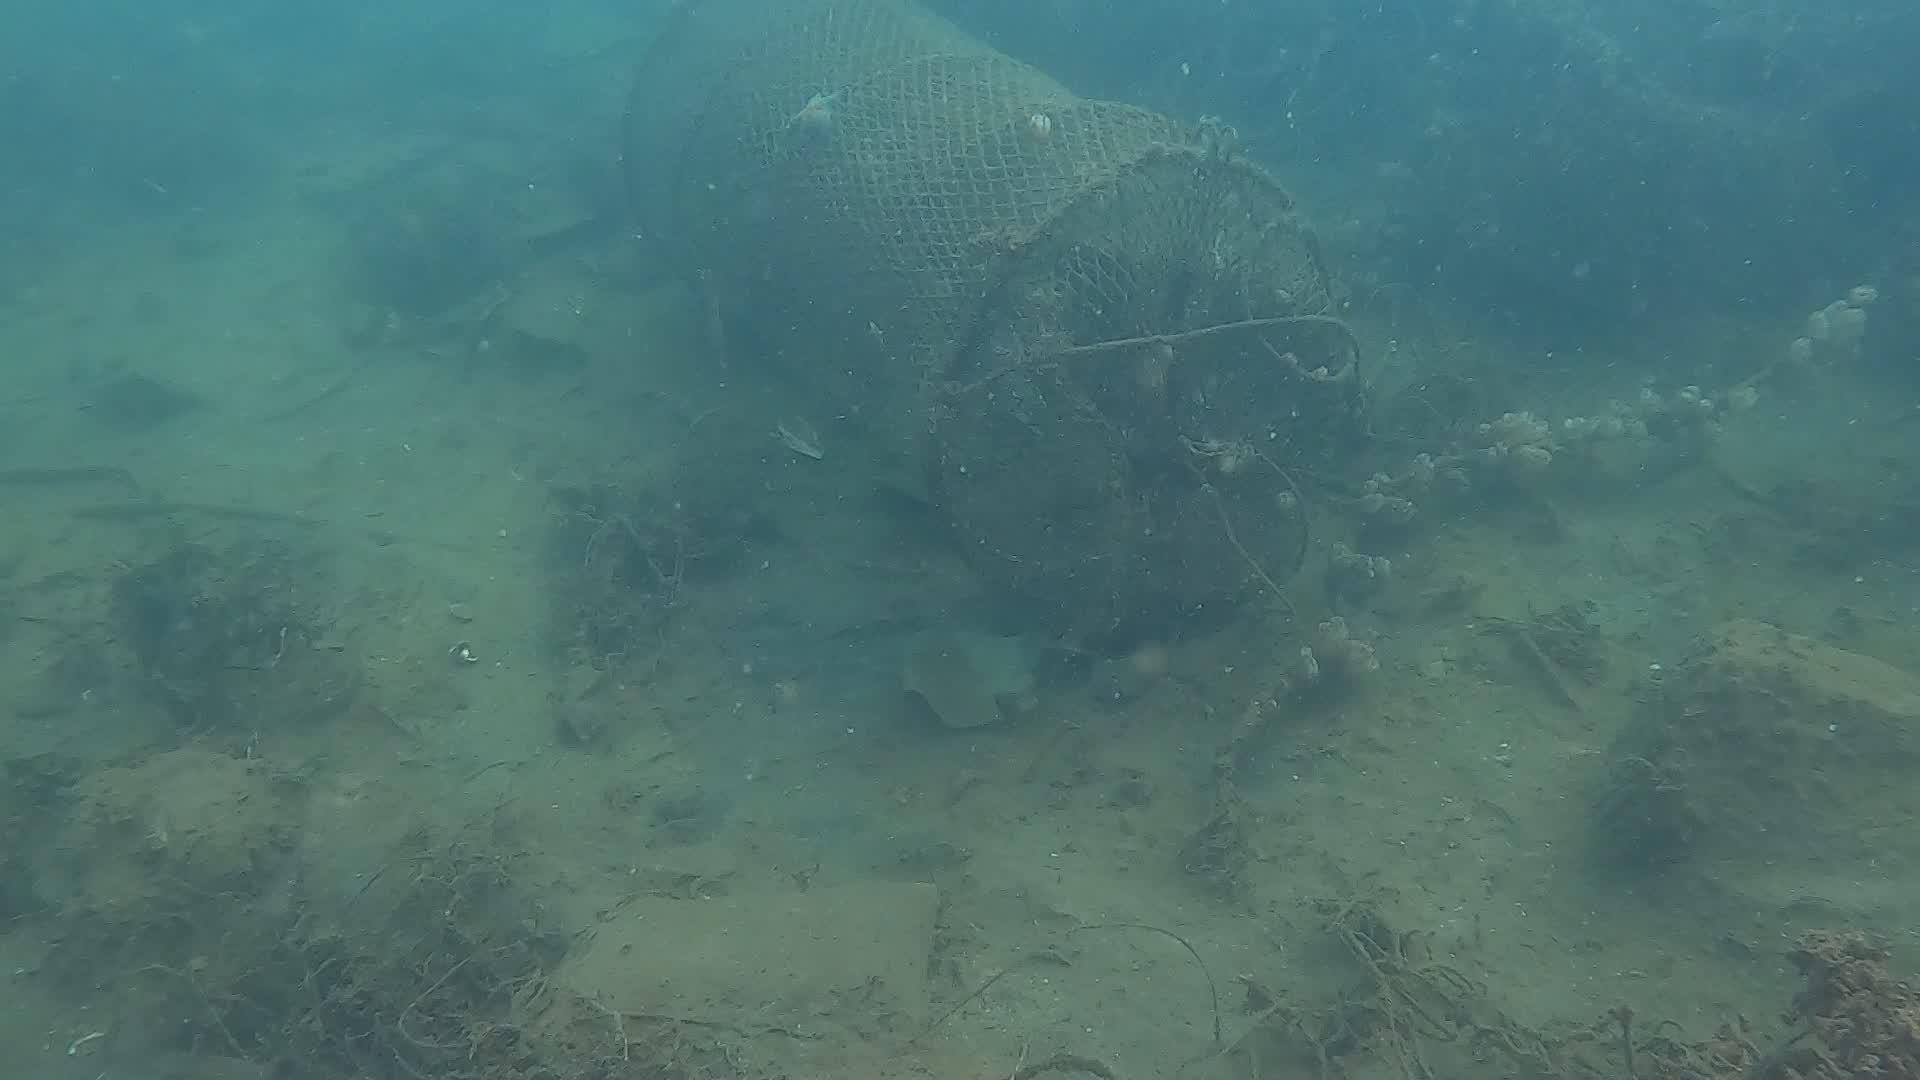spring fish trap: (612, 0, 1338, 640)
